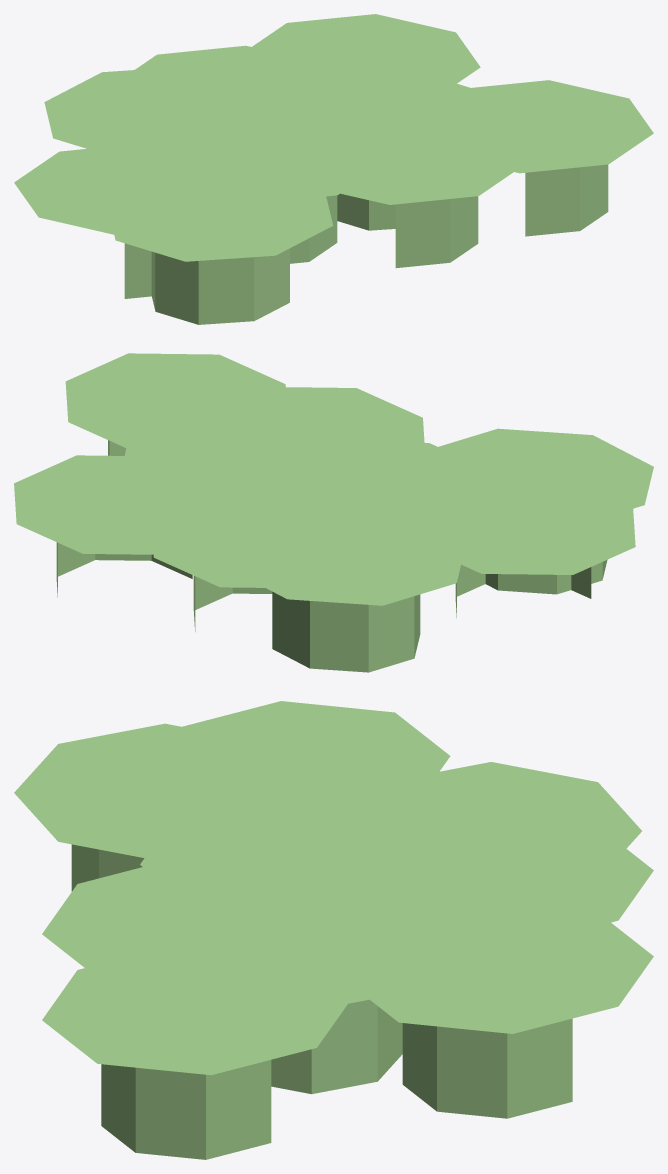
Rendered from watercress.fbx.
3 views of the same model, one above another, from view 1: azimuth 30°, elevation 25°; view 2: azimuth 150°, elevation 25°; view 3: azimuth 270°, elevation 25° (orthographic). The views are drawn at different scales.
Visible parts, largest first — view 1: Cylinder; view 2: Cylinder; view 3: Cylinder.
Boxes of the visible parts, left/top/right/bottom form: Cylinder: left=14, top=14, right=653, bottom=324; Cylinder: left=14, top=353, right=653, bottom=672; Cylinder: left=14, top=701, right=653, bottom=1159.
Bounding box in the file's own units: 1.03 × 0.1415 × 0.746.
